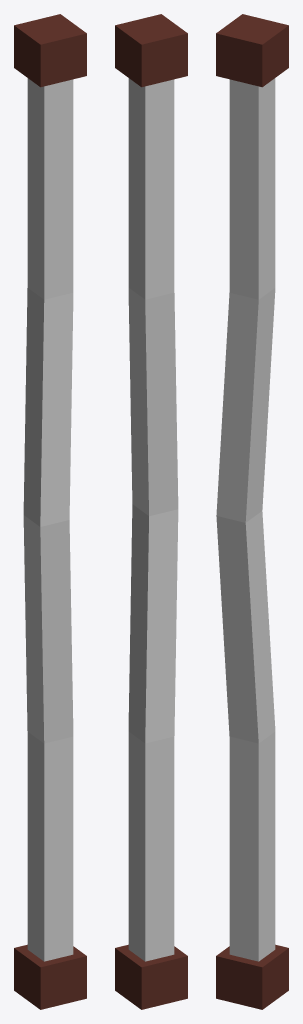
File: ScrapPiller2.fbx
The picture shows the model from 3 angles, left to right: view 1: azimuth 30°, elevation 25°; view 2: azimuth 210°, elevation 25°; view 3: azimuth 330°, elevation 25°; orthographic projection.
Visible parts, largest first — view 1: Cube; view 2: Cube; view 3: Cube.
Part boxes in pixels (x1,y1,x2,y2): Cube: [14, 14, 86, 1009]; Cube: [115, 14, 187, 1009]; Cube: [216, 14, 288, 1009].
Bounding box in the file's own units: 20.02 × 398 × 19.8.
